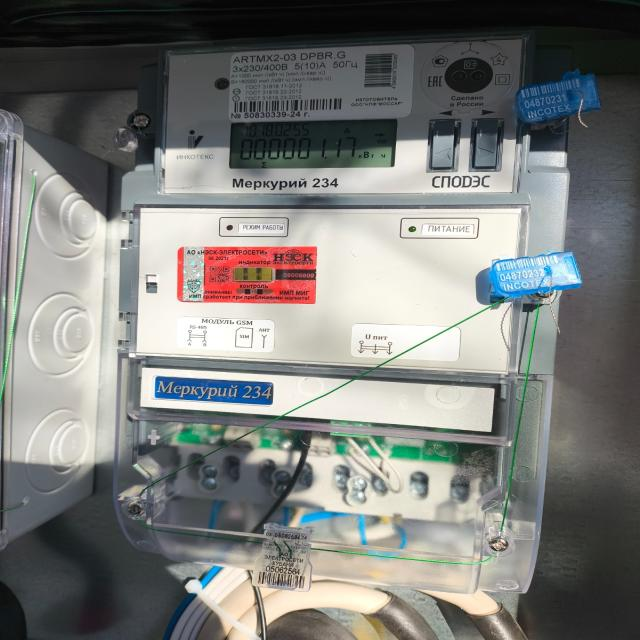Display: (228, 121, 396, 169)
seal_imp: (176, 248, 314, 306)
seal_mercury: (116, 31, 566, 600)
